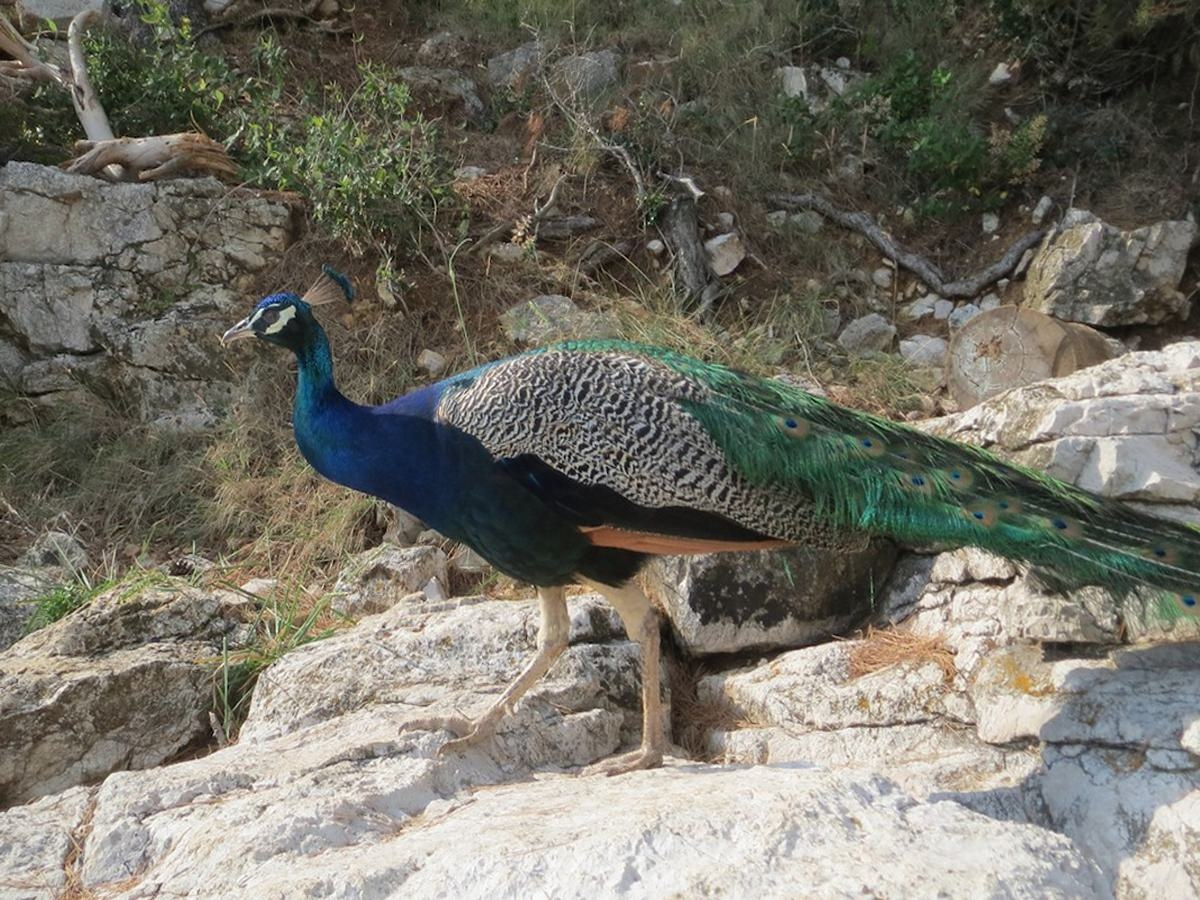peacock: (210, 265, 1138, 676)
